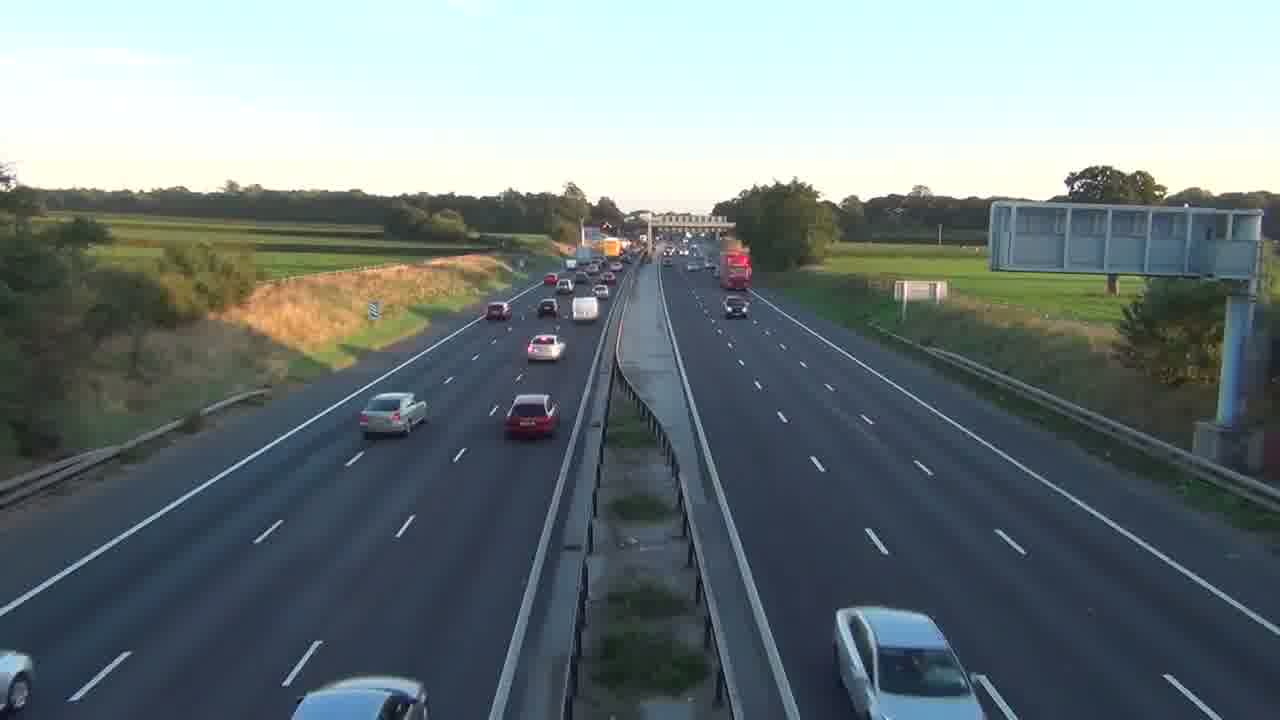car: (833, 605, 987, 719), (291, 674, 430, 719), (357, 391, 430, 440), (505, 392, 560, 440), (1, 651, 35, 715), (526, 333, 565, 362), (538, 297, 558, 318)
